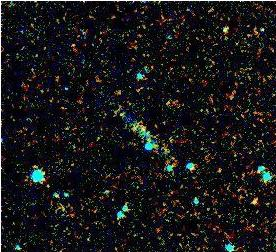star: (239, 184, 269, 214)
